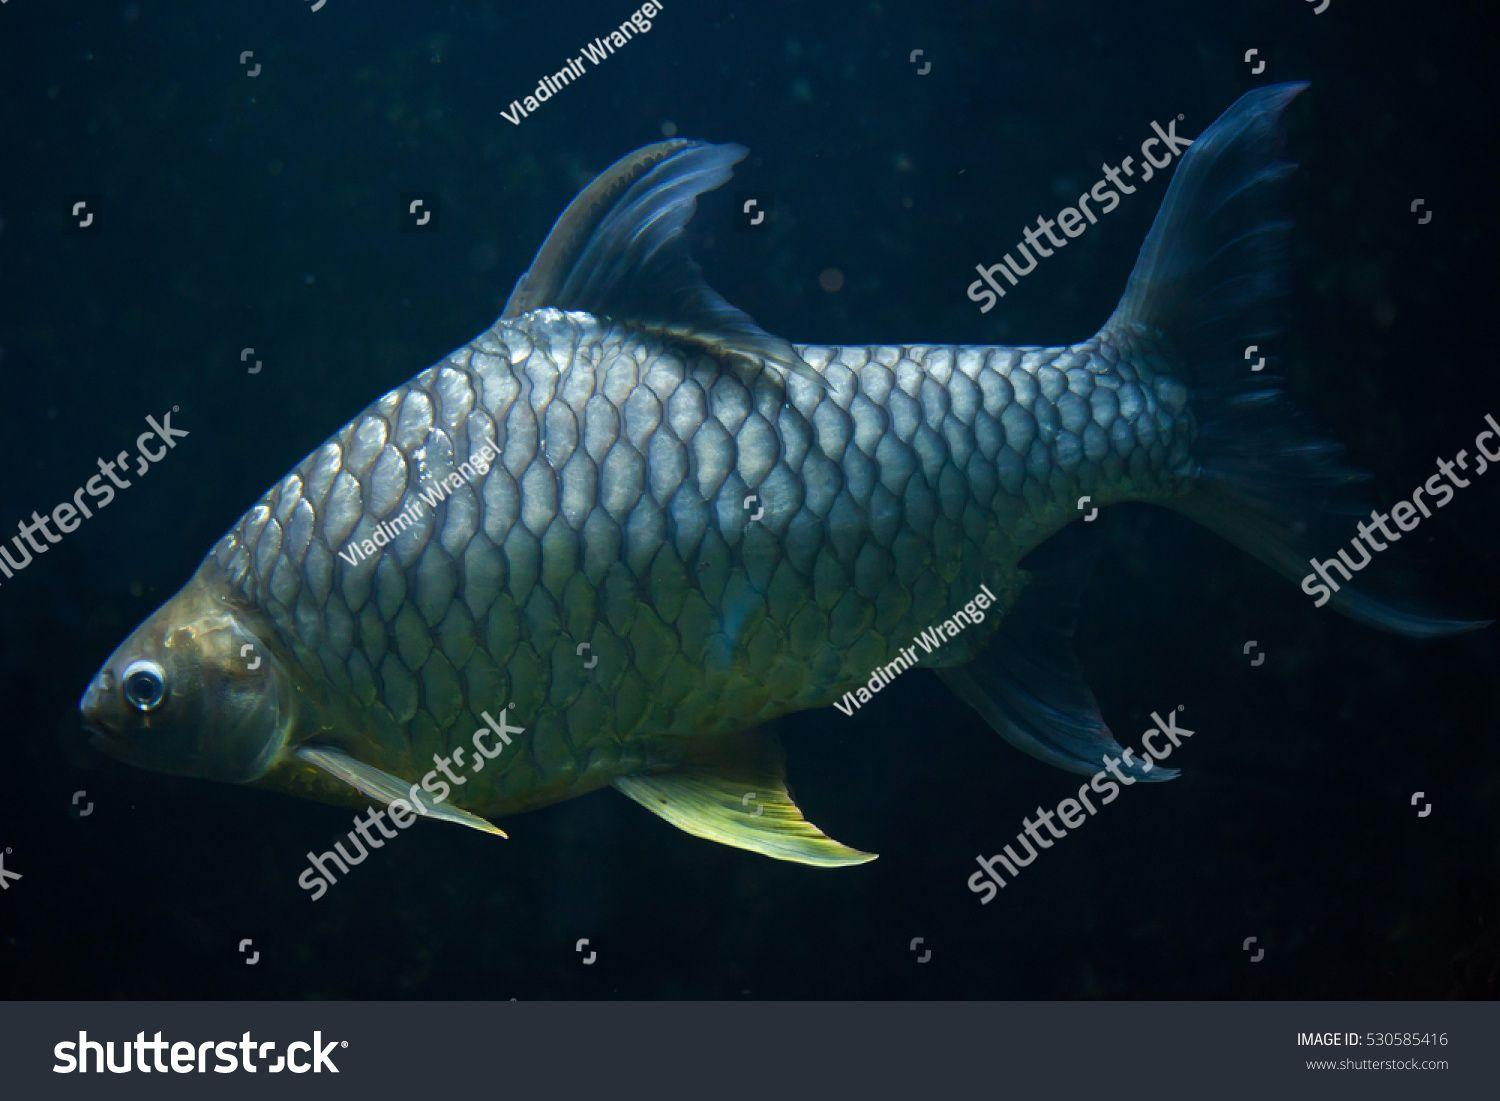Silver Barb: (84, 75, 1467, 908)
